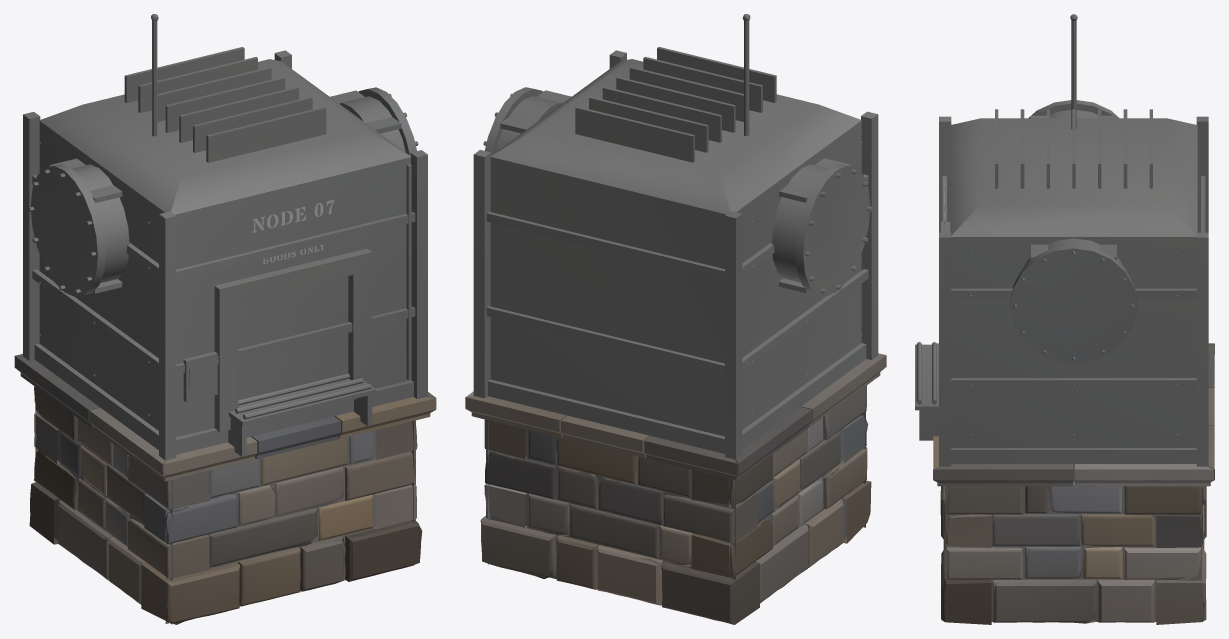
File: TubeNode_LOD0.glb
3 views of the same model, side by side, from view 1: azimuth 30°, elevation 25°; view 2: azimuth 150°, elevation 25°; view 3: azimuth 270°, elevation 25° (orthographic). The views are drawn at different scales.
Visible parts, largest first — view 1: TubeNode_Metal_LOD0, TubeNode_Masonry_LOD0, TubeNode_Trim_LOD0, TubeNode_Glow_LOD0, TubeNode_Stencil_front_LOD0; view 2: TubeNode_Metal_LOD0, TubeNode_Masonry_LOD0, TubeNode_Trim_LOD0; view 3: TubeNode_Metal_LOD0, TubeNode_Masonry_LOD0, TubeNode_Trim_LOD0.
Part boxes in pixels (box(x1,y1,x2,y2)): TubeNode_Metal_LOD0: box(23, 21, 427, 460); TubeNode_Masonry_LOD0: box(29, 386, 422, 624); TubeNode_Trim_LOD0: box(14, 353, 436, 481); TubeNode_Glow_LOD0: box(151, 14, 411, 389); TubeNode_Stencil_front_LOD0: box(252, 199, 334, 232); TubeNode_Metal_LOD0: box(473, 21, 878, 459); TubeNode_Masonry_LOD0: box(480, 385, 871, 624); TubeNode_Trim_LOD0: box(465, 353, 886, 480); TubeNode_Metal_LOD0: box(915, 20, 1208, 466); TubeNode_Masonry_LOD0: box(940, 464, 1206, 624); TubeNode_Trim_LOD0: box(933, 343, 1214, 486).
Size of the model in its own units: 4.2 by 6.68 by 3.49.
